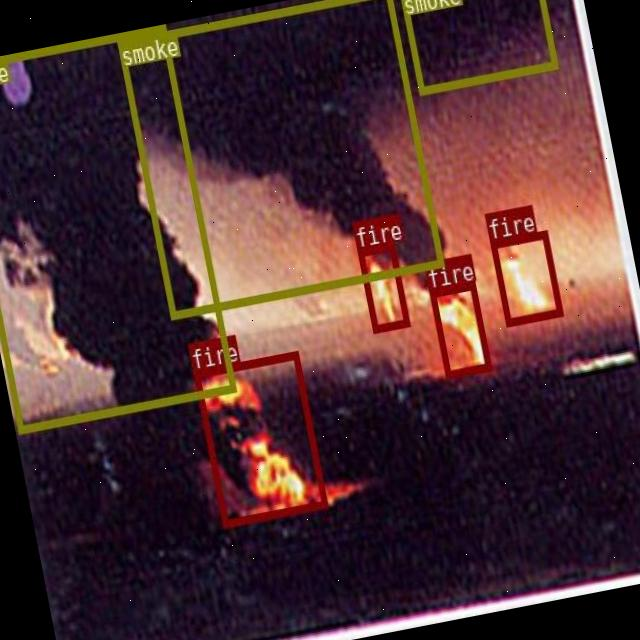fire: (192, 349, 327, 527), (490, 230, 562, 324), (428, 280, 490, 377), (356, 242, 408, 332)
smoke: (116, 0, 442, 317), (0, 24, 235, 433), (398, 0, 557, 95)
